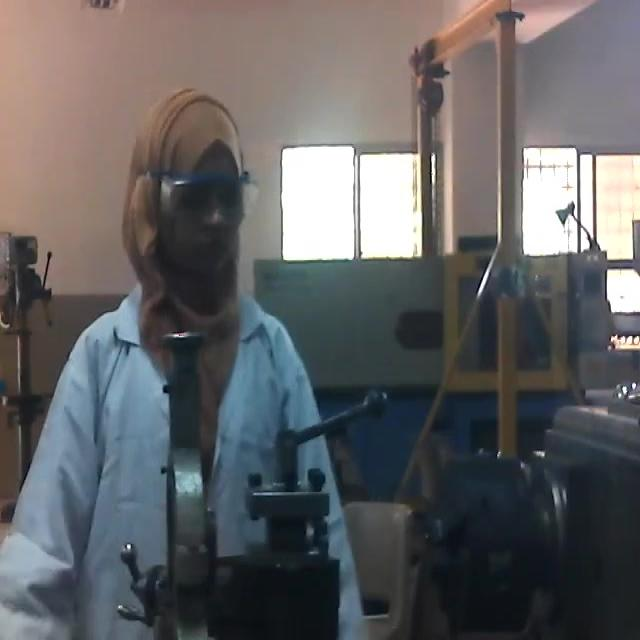googles: (160, 167, 262, 230)
labcoat: (1, 250, 370, 640)
